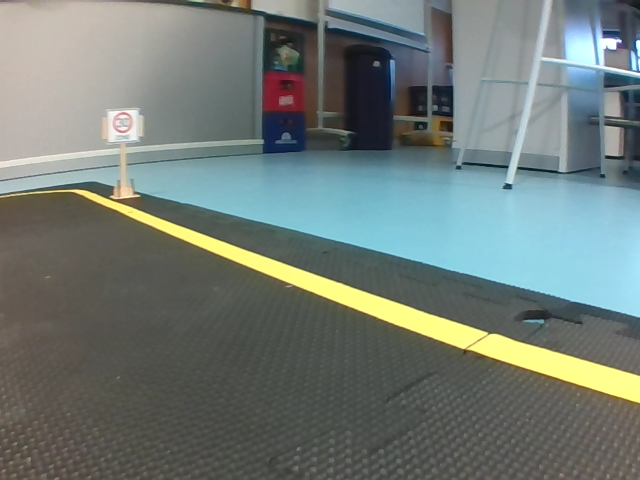30: (226, 100, 253, 124)
stop: (374, 35, 465, 138), (23, 116, 38, 146)
